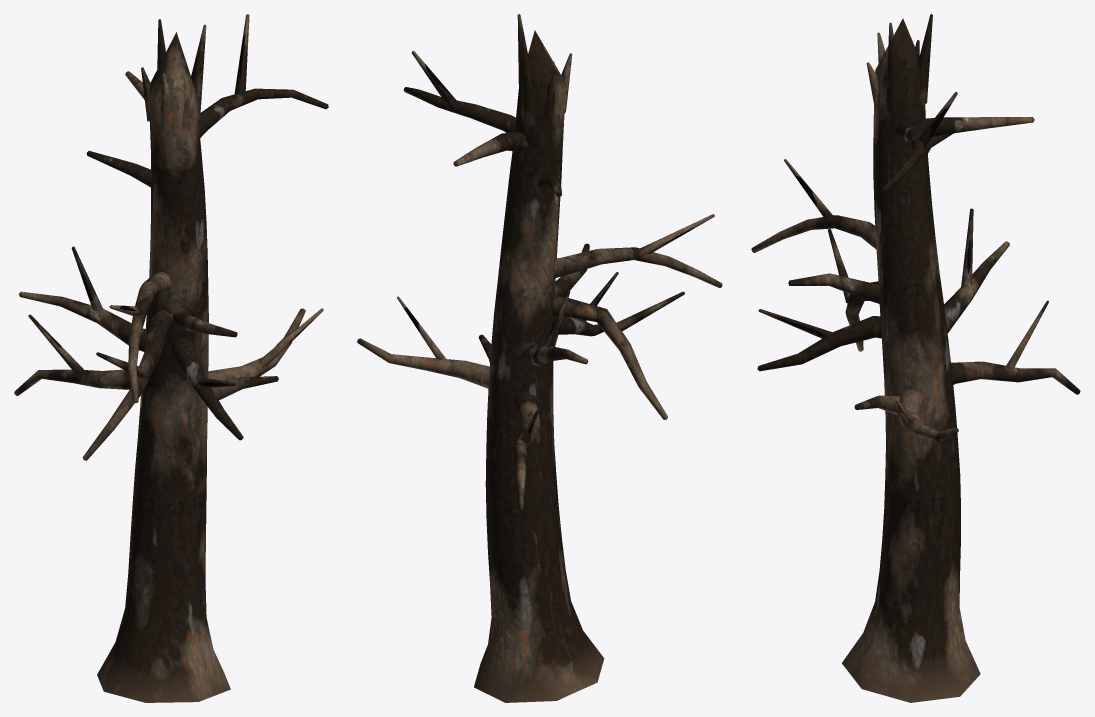
File: BG_DeadTree.fbx
The picture shows the model from 3 angles, left to right: view 1: azimuth 30°, elevation 25°; view 2: azimuth 150°, elevation 25°; view 3: azimuth 270°, elevation 25°; orthographic projection. The views are drawn at different scales.
Parts seen in each view (by area): view 1: BG_DeadTree; view 2: BG_DeadTree; view 3: BG_DeadTree.
Part boxes in pixels (x1=…): BG_DeadTree: x1=14, y1=14, x2=328, y2=702; BG_DeadTree: x1=357, y1=14, x2=722, y2=702; BG_DeadTree: x1=751, y1=14, x2=1080, y2=702.
Bounding box in the file's own units: 2.2 × 4.98 × 2.22.
1 material, 1 textured.
